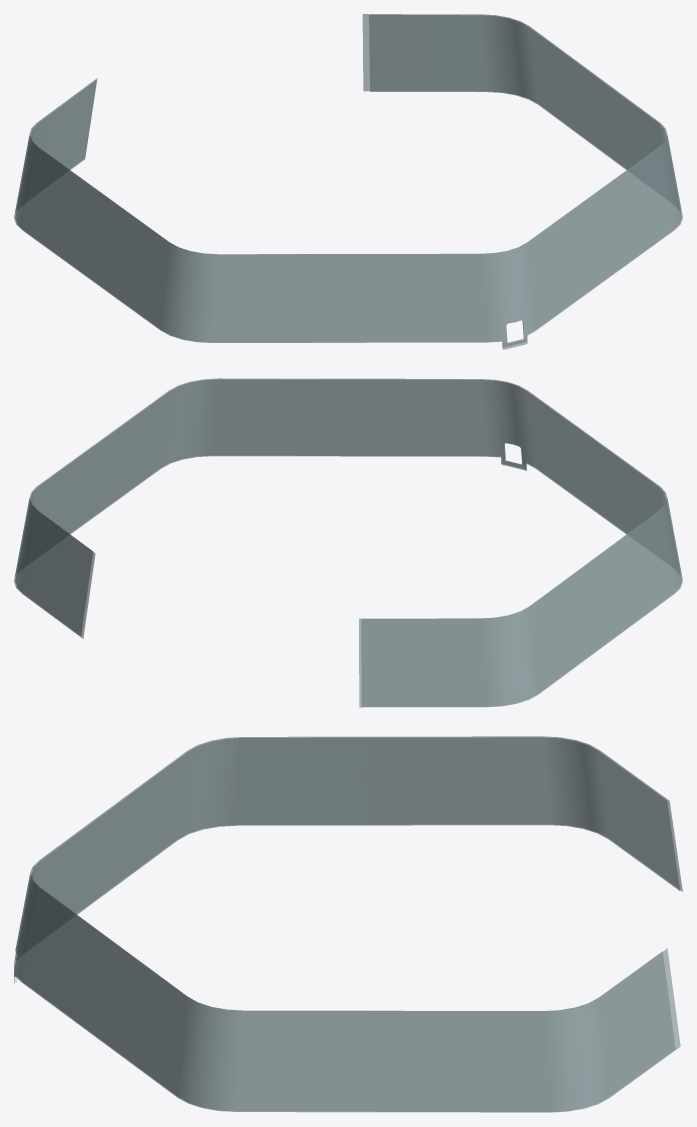
Rendered from MDLentradaWindows (1).fbx.
The picture shows the model from 3 angles, top to bottom: view 1: azimuth 30°, elevation 25°; view 2: azimuth 150°, elevation 25°; view 3: azimuth 270°, elevation 25°; orthographic projection. The views are drawn at different scales.
Parts seen in each view (by area): view 1: Window_Door; view 2: Window_Door; view 3: Window_Door.
Boxes of the visible parts, x1=… form: Window_Door: x1=14, y1=14, x2=682, y2=349; Window_Door: x1=14, y1=378, x2=682, y2=707; Window_Door: x1=14, y1=736, x2=682, y2=1112.
Size of the model in its own units: 4097 by 691 by 4021.
